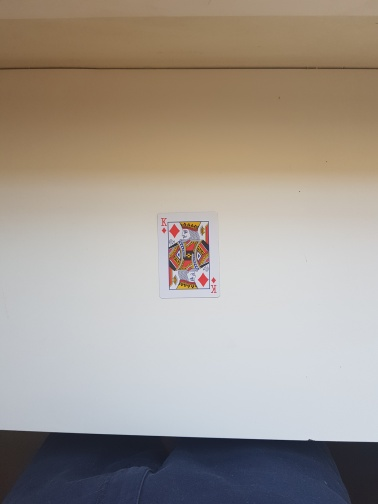king: (155, 211, 220, 300)
